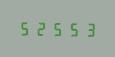five: (48, 19, 62, 37), (18, 19, 32, 36), (63, 20, 77, 37)
three: (78, 20, 92, 37)
two: (33, 19, 47, 36)
